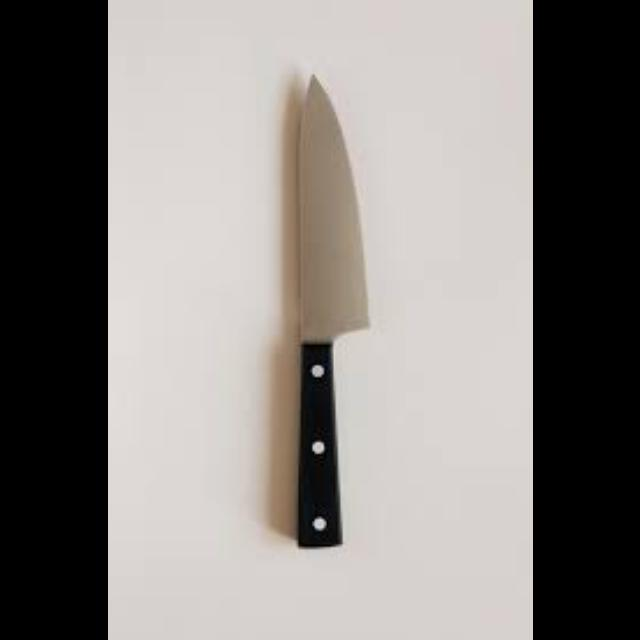Knife: (294, 73, 370, 547)
